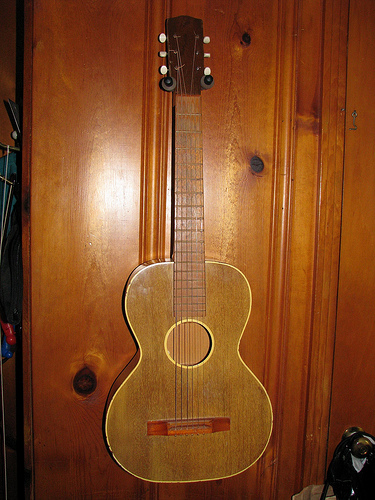guitar: (102, 14, 277, 485)
